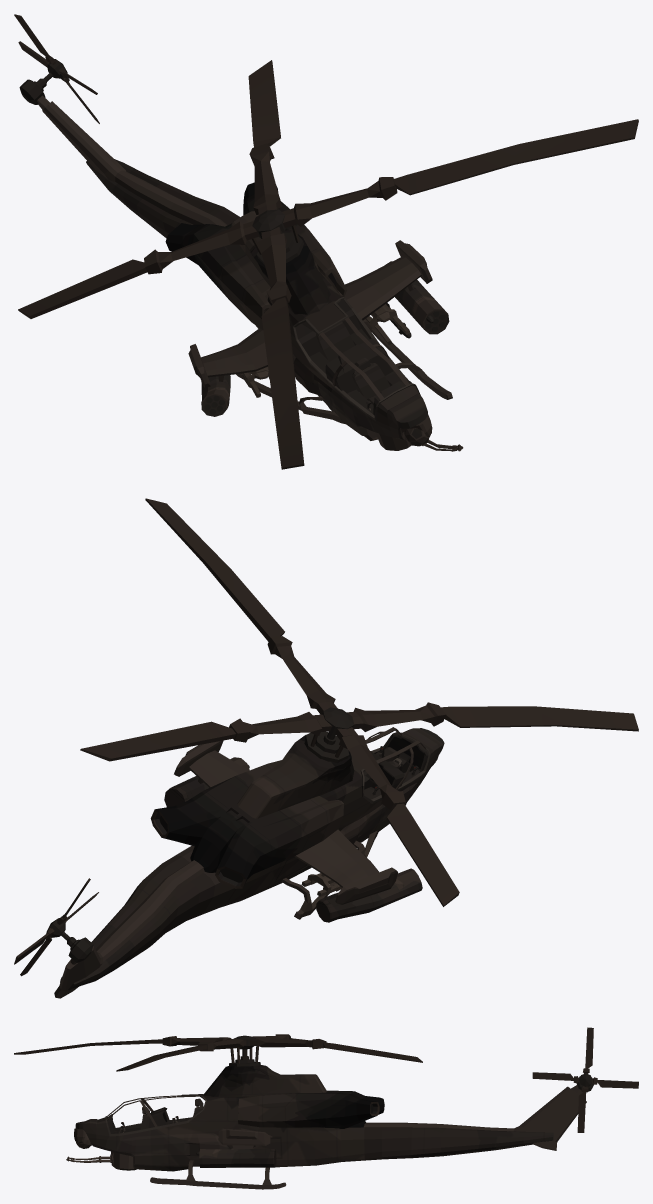
File: SM_Veh_Helicopter_Attack_01_Destroyed.fbx
3 renders of one model, top to bottom at view 1: azimuth 30°, elevation 25°; view 2: azimuth 150°, elevation 25°; view 3: azimuth 270°, elevation 25°, orthographic. The views are drawn at different scales.
Parts seen in each view (by area): view 1: SM_Veh_Helicopter_Attack_01_Destroyed; view 2: SM_Veh_Helicopter_Attack_01_Destroyed; view 3: SM_Veh_Helicopter_Attack_01_Destroyed.
Boxes of the visible parts, x1,y1,x2,y2 form: SM_Veh_Helicopter_Attack_01_Destroyed: (14, 14, 638, 469); SM_Veh_Helicopter_Attack_01_Destroyed: (14, 498, 638, 998); SM_Veh_Helicopter_Attack_01_Destroyed: (14, 1027, 638, 1189).
Bounding box in the file's own units: 957 × 549 × 1634.
